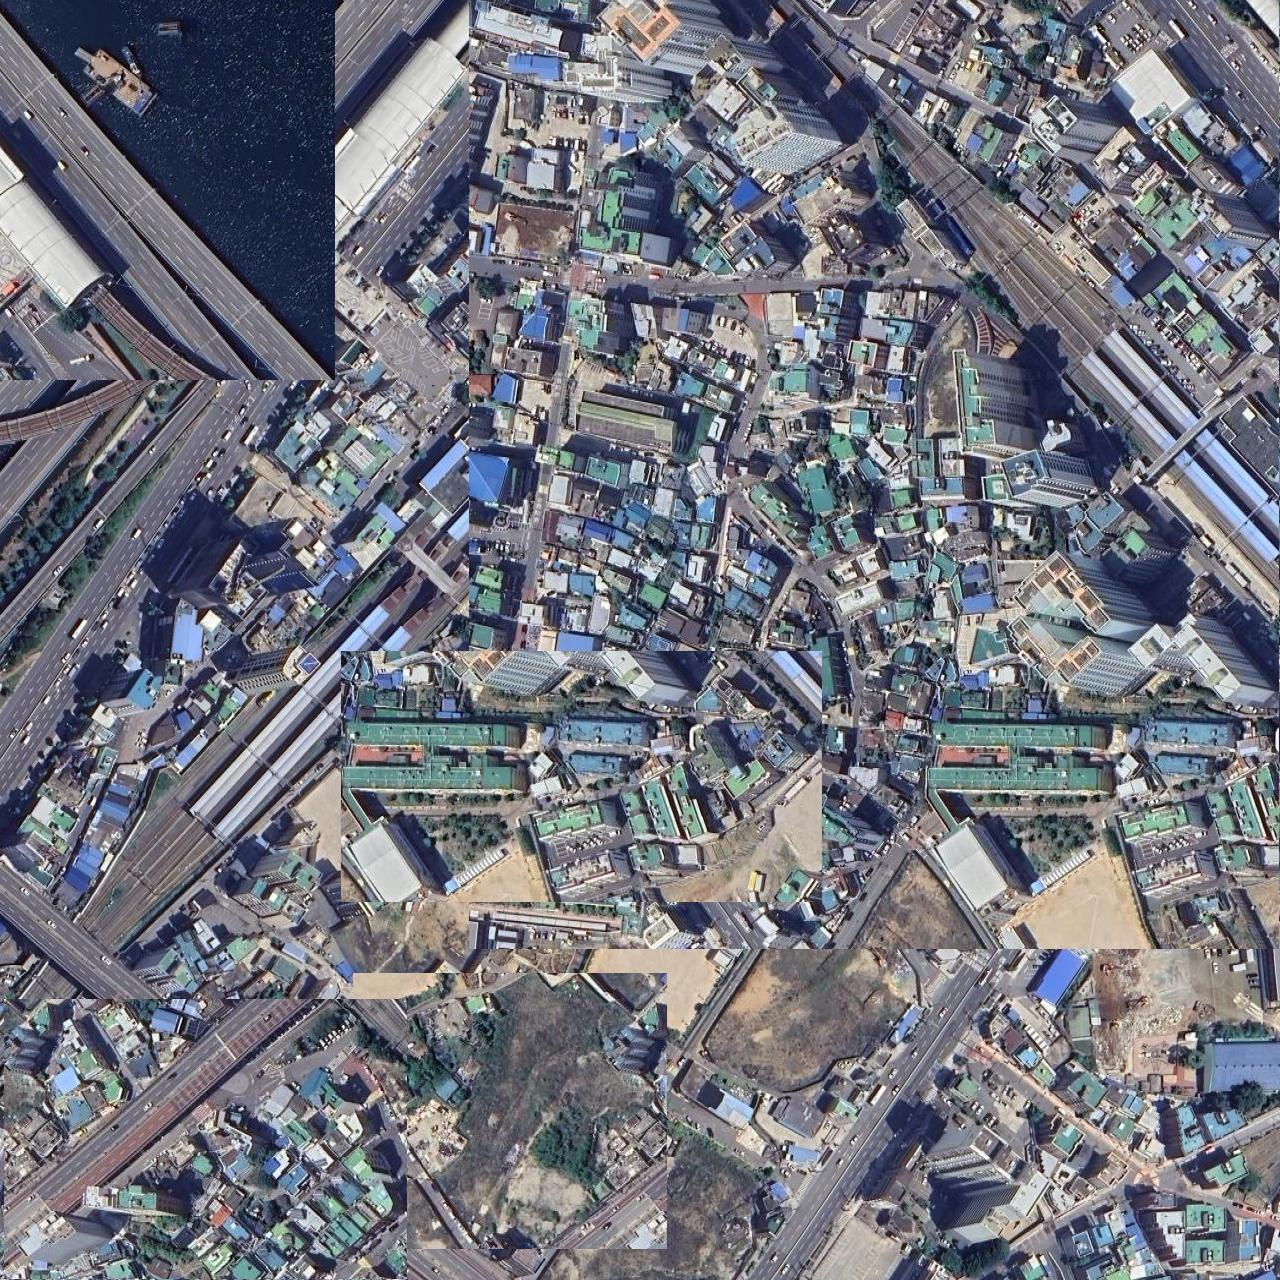greenery: (354, 973, 667, 1249), (710, 867, 917, 1107), (540, 1124, 787, 1280)
house: (0, 0, 955, 910), (469, 0, 1280, 949), (811, 646, 1280, 1280), (341, 651, 822, 902), (5, 999, 407, 1280), (140, 812, 423, 1165)
